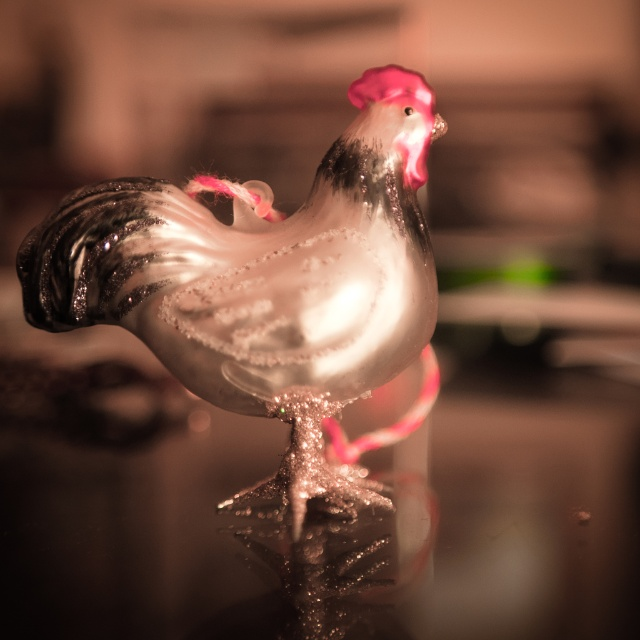Chicken: (46, 57, 446, 465)
